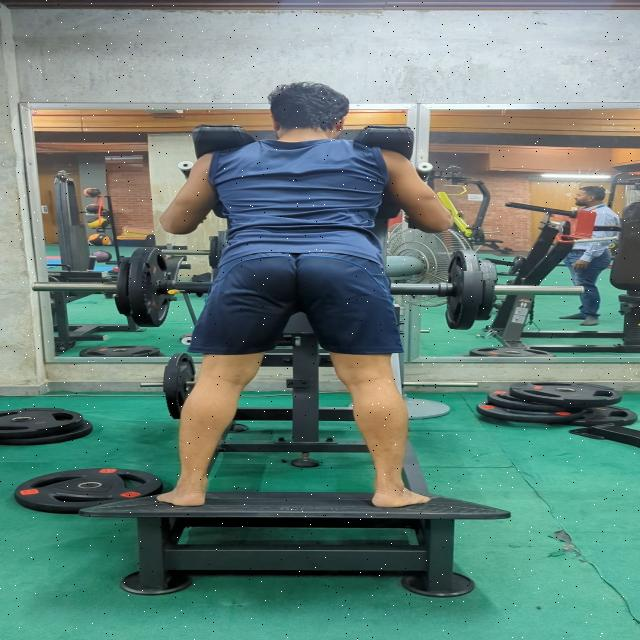Normal_SquatsWithBarbell: (128, 72, 516, 530)
